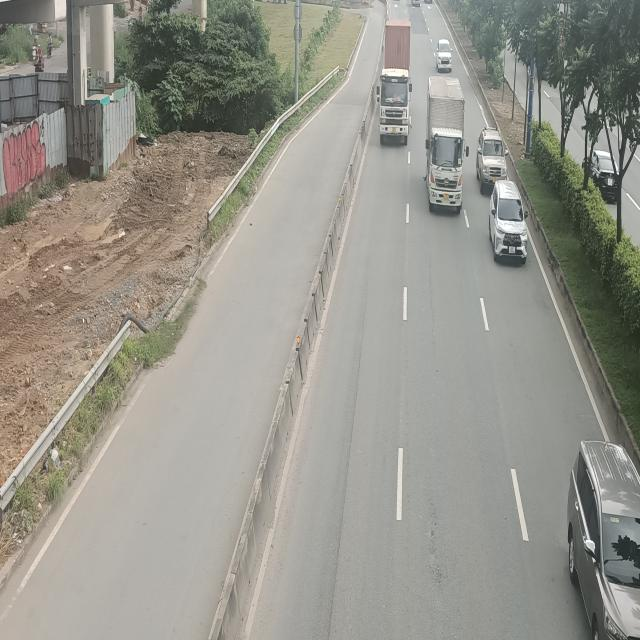car: (566, 441, 640, 640), (488, 181, 528, 260), (477, 128, 508, 191), (436, 38, 453, 72)
container: (376, 18, 411, 147)
truck: (425, 77, 469, 212)
